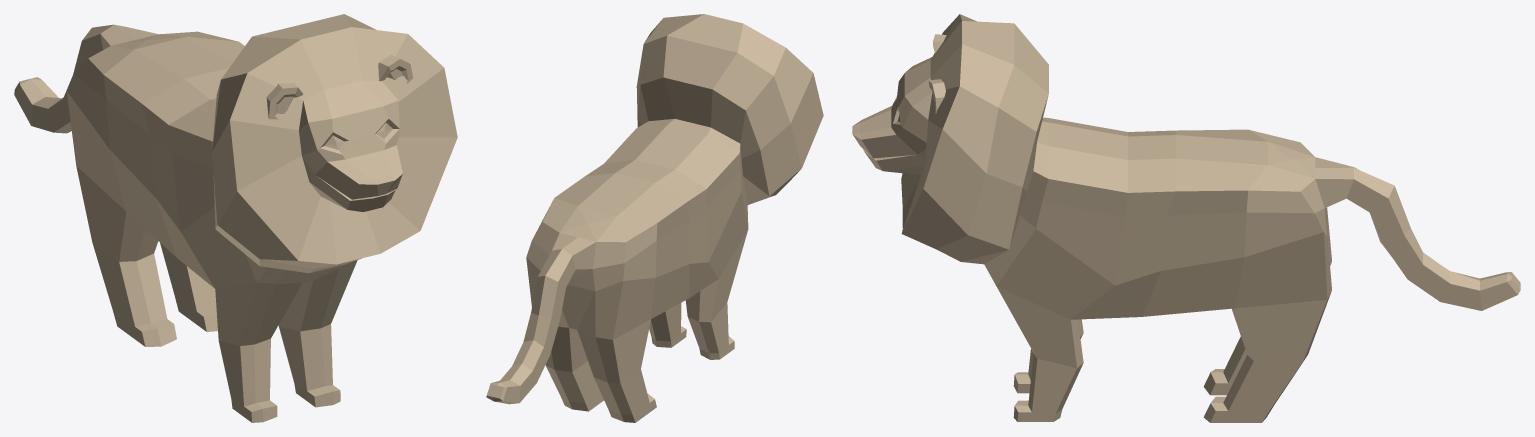
Rendered from pixiu.glb.
The picture shows the model from 3 angles, left to right: view 1: azimuth 30°, elevation 25°; view 2: azimuth 150°, elevation 25°; view 3: azimuth 270°, elevation 25°; orthographic projection. The views are drawn at different scales.
Parts seen in each view (by area): view 1: Lion_01_Circle.005; view 2: Lion_01_Circle.005; view 3: Lion_01_Circle.005.
Boxes of the visible parts, bbox=[...] form: Lion_01_Circle.005: bbox=[14, 14, 457, 422]; Lion_01_Circle.005: bbox=[486, 14, 823, 422]; Lion_01_Circle.005: bbox=[852, 14, 1520, 422].
Bounding box in the file's own units: 5.04 × 8.75 × 14.34.
